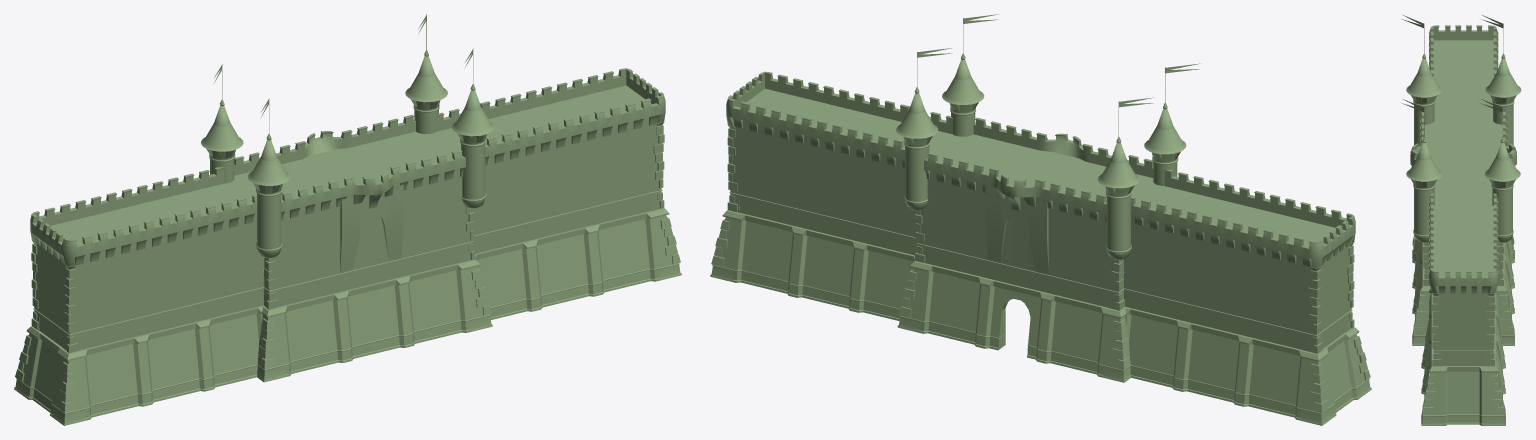
The model's file is castle_top.fbx.
3 renders of one model, left to right at view 1: azimuth 30°, elevation 25°; view 2: azimuth 150°, elevation 25°; view 3: azimuth 270°, elevation 25°, orthographic. The views are drawn at different scales.
Visible parts, largest first — view 1: main_wall3 (×8), bottom_wall_6 (×7), wall_group_group11_group8_top_wall2 (×14), main_wall, main_wall5, pCylinder2 (×4), bottom_wall_10, bottom_wall_11, bottom_wall_9, pCone2 (×4), corner_bottom (×4), top_wall17 (×2) (+7 smaller); view 2: main_wall3 (×8), bottom_wall_6 (×8), wall_group_group11_group8_top_wall2 (×14), main_wall, main_wall4, pCylinder2 (×4), bottom_wall_7, pCone2 (×4), corner_bottom (×4), bottom_wall_5, top_wall17 (×2), wall_group_group11_group8_top_wall3 (×2) (+7 smaller); view 3: bottom_wall_6 (×8), pCylinder2 (×4), main_wall3, pCone2 (×4), top_floor13 (×4), top_floor12 (×4), top_floor14 (×4), wall_group_group11_group8_top_wall2 (×10), corner_bottom (×4), top_floor4 (×2), top_floor7, top_floor1 (+14 smaller).
Boxes of the visible parts, x1,y1,x2,y2 form: main_wall3 (×8): (39,117,652,350); bottom_wall_6 (×7): (26,210,659,420); wall_group_group11_group8_top_wall2 (×14): (34,71,655,264); main_wall: (340,183,403,291); main_wall5: (402,168,463,276); pCylinder2 (×4): (206,99,486,258); bottom_wall_10: (340,277,409,361); bottom_wall_11: (402,262,470,346); bottom_wall_9: (279,292,347,376); pCone2 (×4): (201,56,494,185); corner_bottom (×4): (51,208,681,425); top_wall17 (×2): (291,130,404,208); main_wall3 (×8): (739,120,1346,351); bottom_wall_6 (×8): (732,212,1359,420); wall_group_group11_group8_top_wall2 (×14): (736,74,1351,266); main_wall: (985,186,1048,292); main_wall4: (1048,201,1109,307); pCylinder2 (×4): (903,102,1180,259); bottom_wall_7: (1041,293,1109,377); pCone2 (×4): (896,59,1186,188); corner_bottom (×4): (710,210,1334,425); bottom_wall_5: (980,278,1048,362); top_wall17 (×2): (985,132,1096,210); wall_group_group11_group8_top_wall3 (×2): (973,117,1106,222); bottom_wall_6 (×8): (1421,257,1514,425); pCylinder2 (×4): (1411,95,1516,242); main_wall3: (1442,286,1484,365); pCone2 (×4): (1406,59,1521,181); top_floor13 (×4): (1433,69,1493,255); top_floor12 (×4): (1433,44,1493,276); top_floor14 (×4): (1433,44,1493,276); wall_group_group11_group8_top_wall2 (×10): (1420,25,1498,293); corner_bottom (×4): (1412,282,1514,425); top_floor4 (×2): (1428,149,1498,174); top_floor7: (1463,124,1502,149); top_floor1: (1424,124,1463,149).
Bounding box in the file's own units: 36.48 × 15.6 × 7.34.
